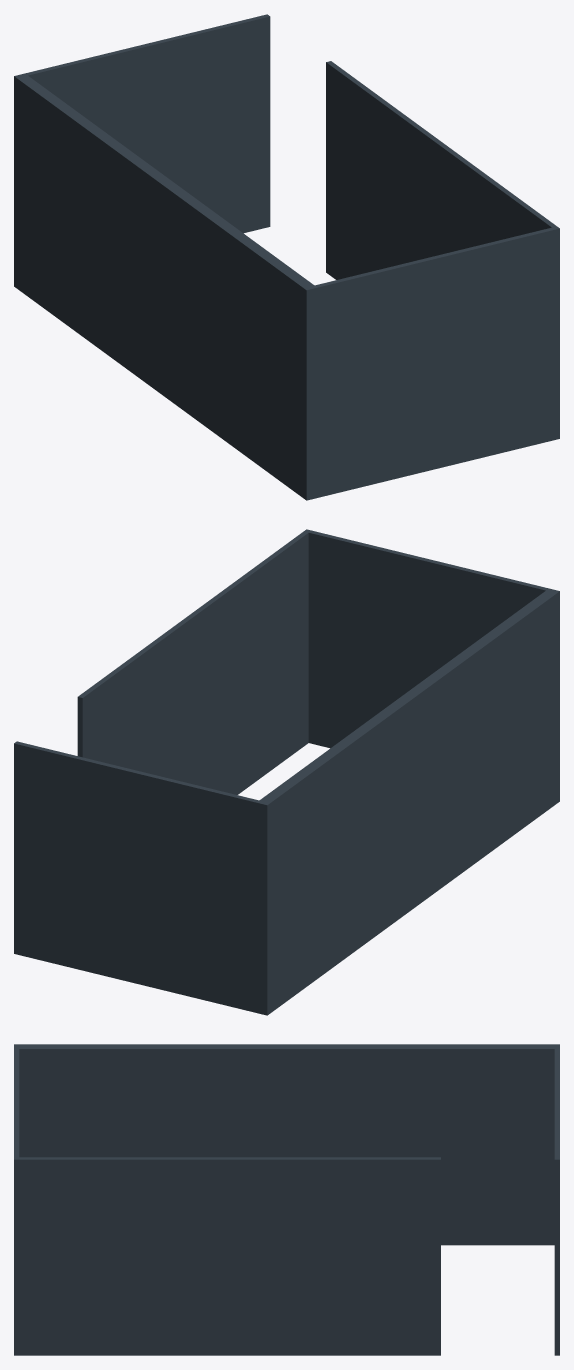
3 renders of one model, top to bottom at view 1: azimuth 30°, elevation 25°; view 2: azimuth 150°, elevation 25°; view 3: azimuth 270°, elevation 25°, orthographic. The views are drawn at different scales.
Parts seen in each view (by area): view 1: Stair_Special_Rooftop_EnclosureWall_Outer, Stair_Special_Rooftop_EnclosureWall_Far, Stair_Special_Rooftop_EnclosureWall_DoorSide, Stair_Special_Rooftop_EnclosureWall_Inner; view 2: Stair_Special_Rooftop_EnclosureWall_Outer, Stair_Special_Rooftop_EnclosureWall_DoorSide, Stair_Special_Rooftop_EnclosureWall_Inner, Stair_Special_Rooftop_EnclosureWall_Far; view 3: Stair_Special_Rooftop_EnclosureWall_Inner, Stair_Special_Rooftop_EnclosureWall_Outer, Stair_Special_Rooftop_EnclosureWall_DoorSide, Stair_Special_Rooftop_EnclosureWall_Far.
Boxes of the visible parts, <box> form: Stair_Special_Rooftop_EnclosureWall_Outer: <box>17,74,317,500</box>; Stair_Special_Rooftop_EnclosureWall_Far: <box>303,226,559,500</box>; Stair_Special_Rooftop_EnclosureWall_DoorSide: <box>14,14,270,288</box>; Stair_Special_Rooftop_EnclosureWall_Inner: <box>326,61,559,439</box>; Stair_Special_Rooftop_EnclosureWall_Outer: <box>256,590,556,1015</box>; Stair_Special_Rooftop_EnclosureWall_DoorSide: <box>14,741,270,1015</box>; Stair_Special_Rooftop_EnclosureWall_Inner: <box>77,529,310,794</box>; Stair_Special_Rooftop_EnclosureWall_Far: <box>304,529,559,803</box>; Stair_Special_Rooftop_EnclosureWall_Inner: <box>14,1157,440,1355</box>; Stair_Special_Rooftop_EnclosureWall_Outer: <box>14,1044,559,1245</box>; Stair_Special_Rooftop_EnclosureWall_DoorSide: <box>554,1044,559,1355</box>; Stair_Special_Rooftop_EnclosureWall_Far: <box>14,1044,19,1234</box>.
Bounding box in the file's own units: 15 × 11.9 × 30.
